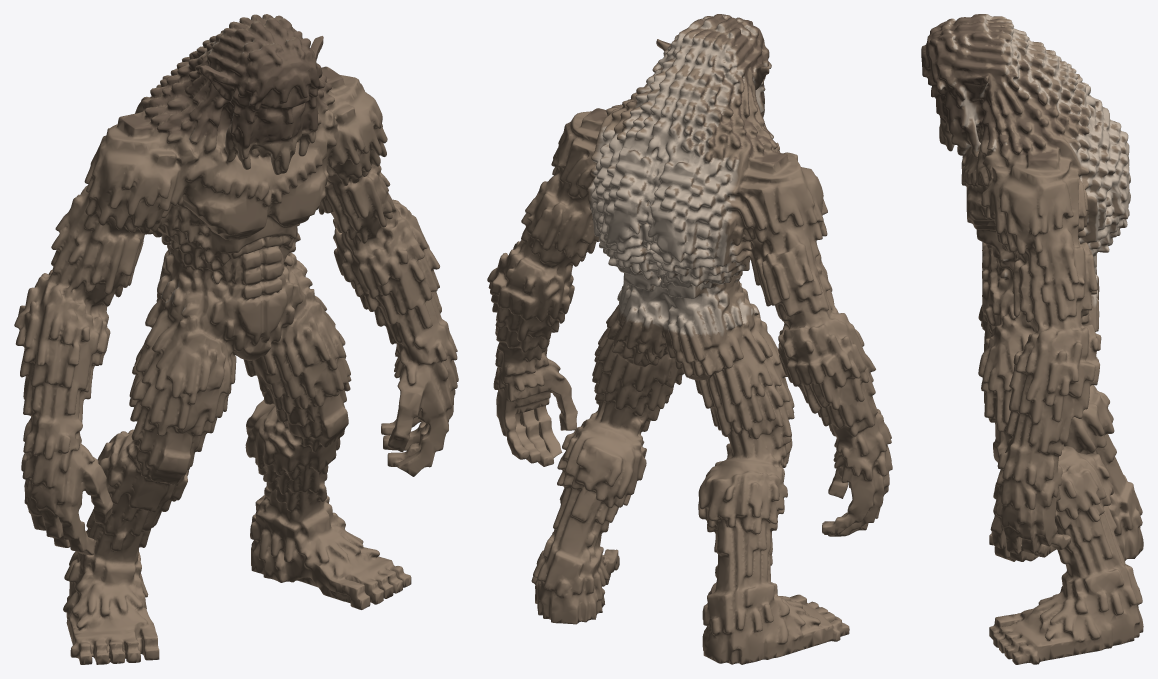
The model's file is beast_titan.glb.
3 views of the same model, side by side, from view 1: azimuth 30°, elevation 25°; view 2: azimuth 150°, elevation 25°; view 3: azimuth 270°, elevation 25° (orthographic). The views are drawn at different scales.
Parts seen in each view (by area): view 1: world; view 2: world; view 3: world.
Boxes of the visible parts, x1,y1,x2,y2 form: world: (14, 14, 458, 664); world: (487, 14, 892, 664); world: (921, 14, 1143, 664).
Bounding box in the file's own units: 1.38 × 1.9 × 0.6697.
